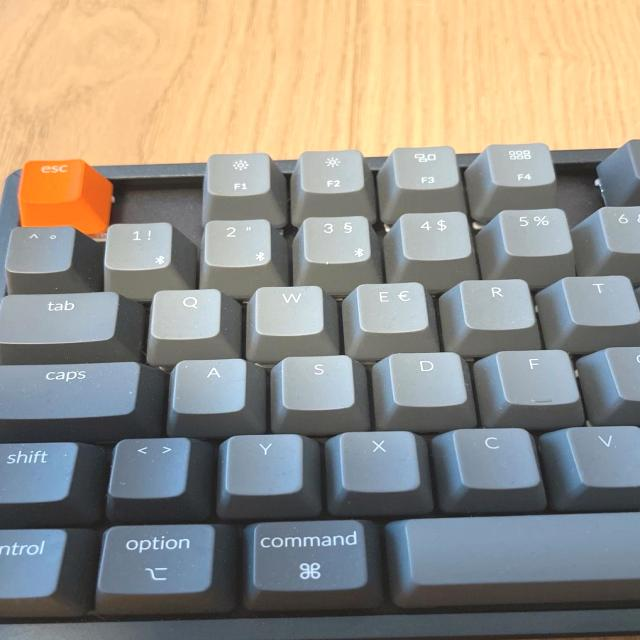1: (102, 220, 173, 270)
2: (201, 217, 273, 267)
3: (300, 213, 372, 265)
4: (397, 208, 473, 261)
5: (497, 205, 573, 257)
6: (596, 202, 640, 254)
a: (169, 355, 247, 414)
alt-left: (92, 520, 218, 598)
c: (449, 424, 545, 490)
caret: (2, 223, 75, 272)
d: (386, 348, 468, 407)
e: (353, 279, 431, 333)
f: (491, 346, 581, 405)
g: (602, 342, 640, 401)
keyboard: (0, 132, 640, 640)
less: (109, 436, 197, 502)
q: (148, 285, 223, 339)
r: (458, 276, 537, 330)
s: (276, 352, 356, 411)
shift-left: (0, 439, 83, 504)
shift-lock: (0, 358, 145, 420)
space: (388, 511, 640, 588)
strg-left: (0, 525, 70, 599)
t: (561, 272, 640, 326)
tab: (0, 290, 120, 344)
v: (564, 423, 640, 489)
w: (251, 283, 325, 336)
x: (333, 428, 425, 494)
y: (220, 431, 308, 497)
